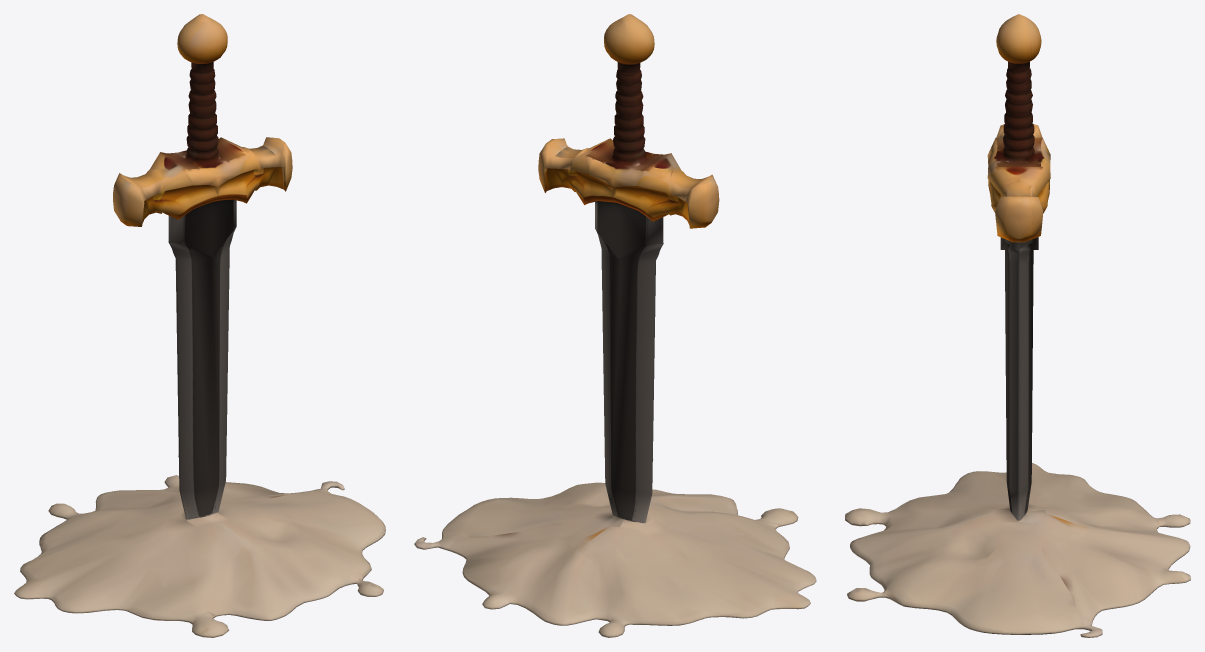
Rendered from item1_sword.fbx.
3 renders of one model, left to right at view 1: azimuth 30°, elevation 25°; view 2: azimuth 150°, elevation 25°; view 3: azimuth 270°, elevation 25°, orthographic.
Parts seen in each view (by area): view 1: texture_pbr_v128; view 2: texture_pbr_v128; view 3: texture_pbr_v128.
Boxes of the visible parts, x1,y1,x2,y2 form: texture_pbr_v128: [14, 14, 385, 637]; texture_pbr_v128: [414, 14, 816, 637]; texture_pbr_v128: [845, 14, 1190, 637].
Size of the model in its own units: 67.05 by 96.93 by 56.29.
1 material, 1 textured.
